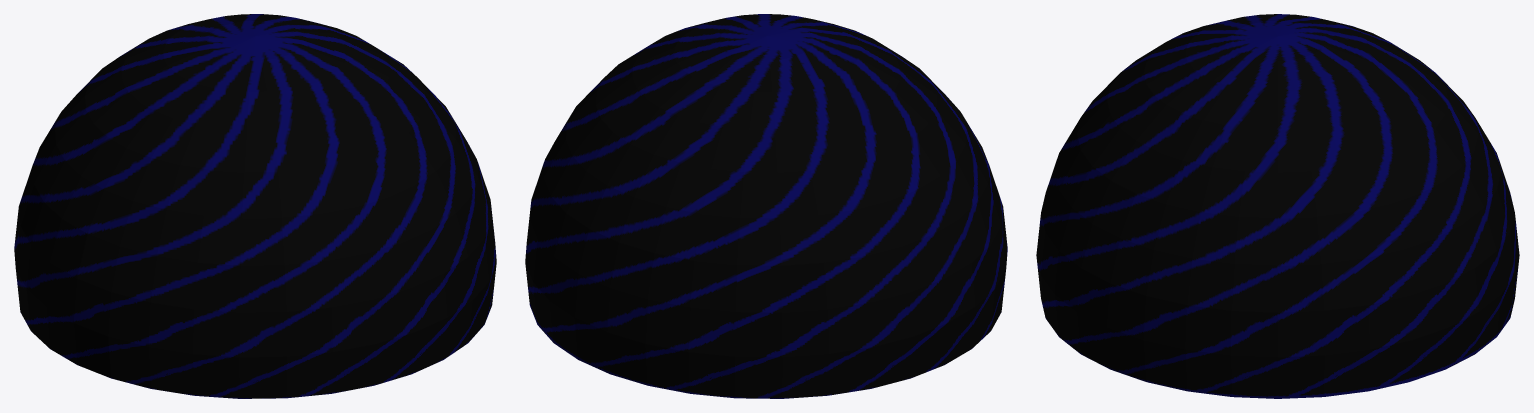
The picture shows the model from 3 angles, left to right: view 1: azimuth 30°, elevation 25°; view 2: azimuth 150°, elevation 25°; view 3: azimuth 270°, elevation 25°; orthographic projection.
Visible parts, largest first — view 1: Sphere; view 2: Sphere; view 3: Sphere.
Part boxes in pixels (x1,y1,x2,y2): Sphere: [14, 14, 496, 398]; Sphere: [525, 14, 1007, 398]; Sphere: [1036, 14, 1519, 398].
Size of the model in its own units: 142 by 90.68 by 142.
